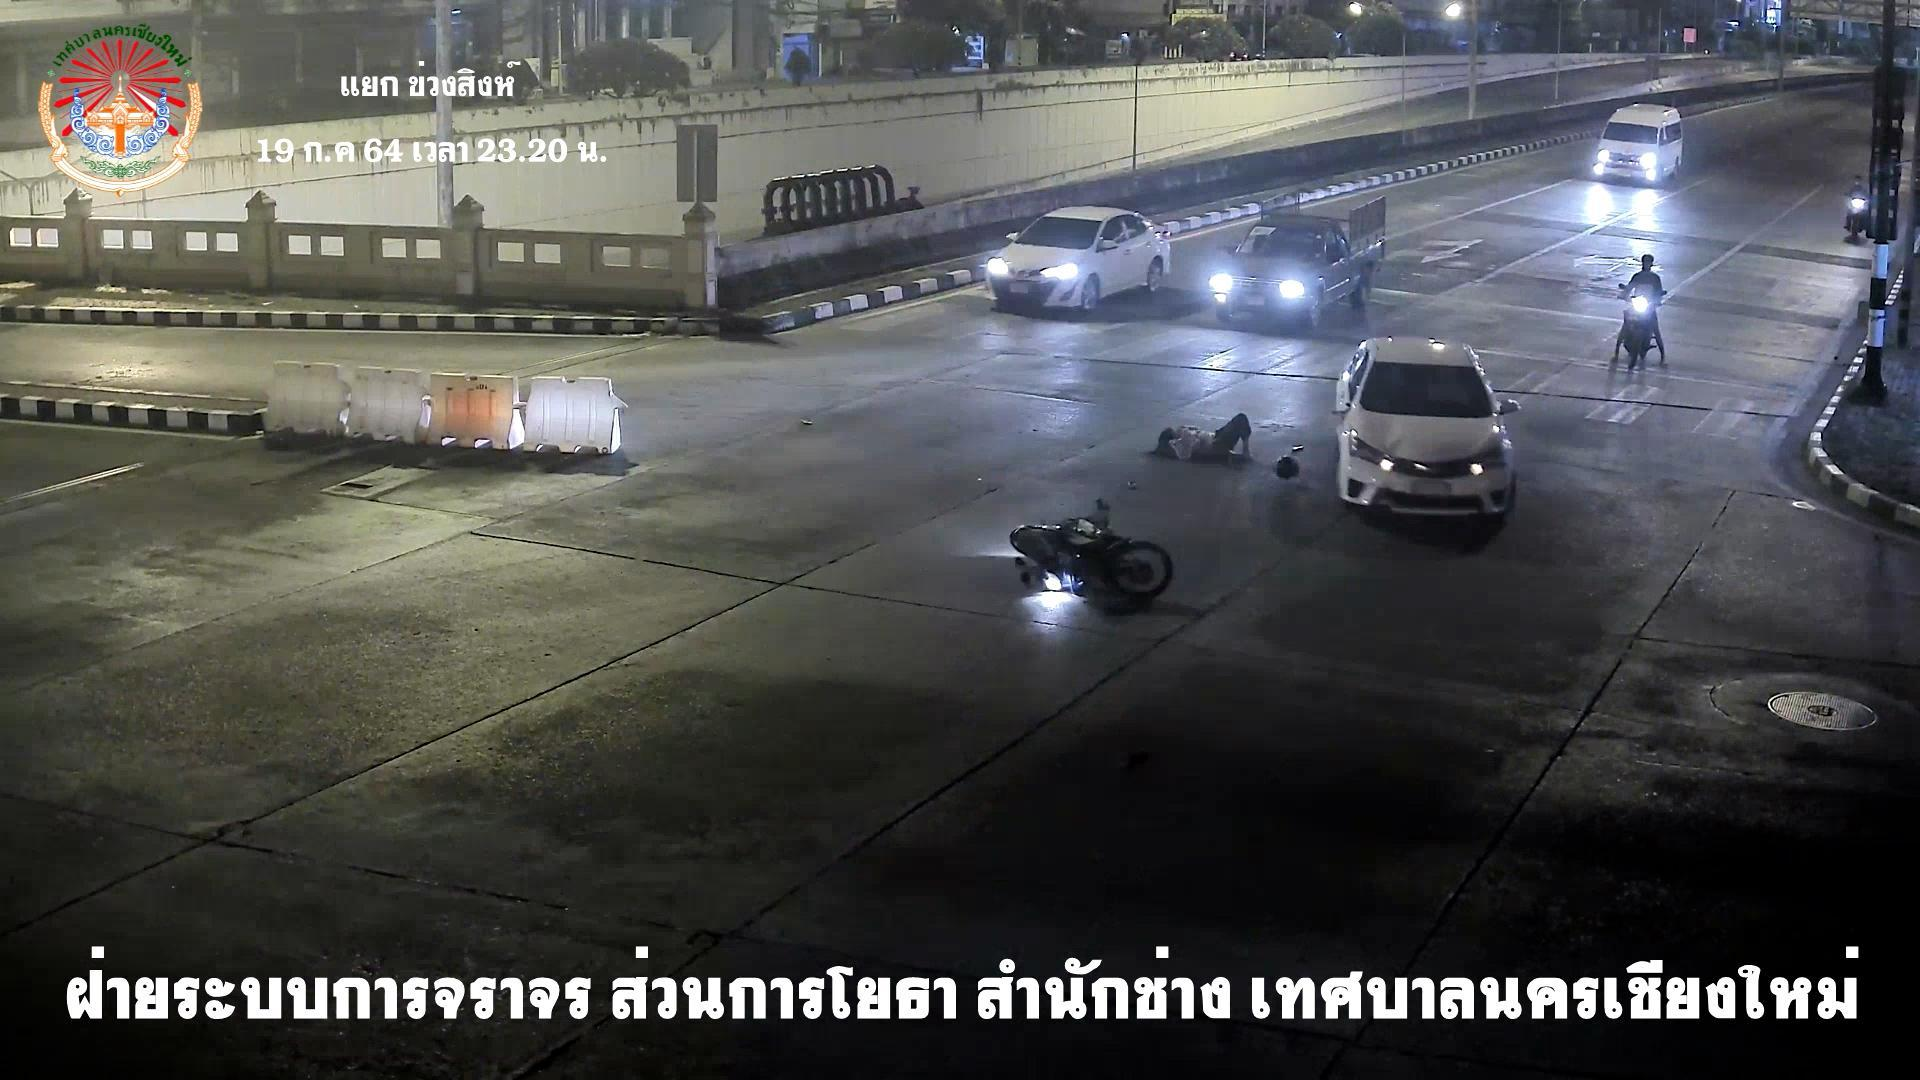accident: (1141, 407, 1267, 483)
